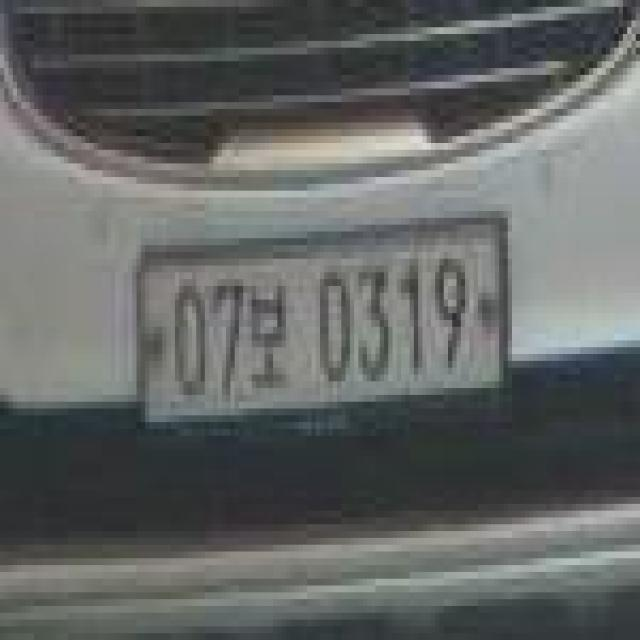illegal_plate: (131, 210, 511, 444)
